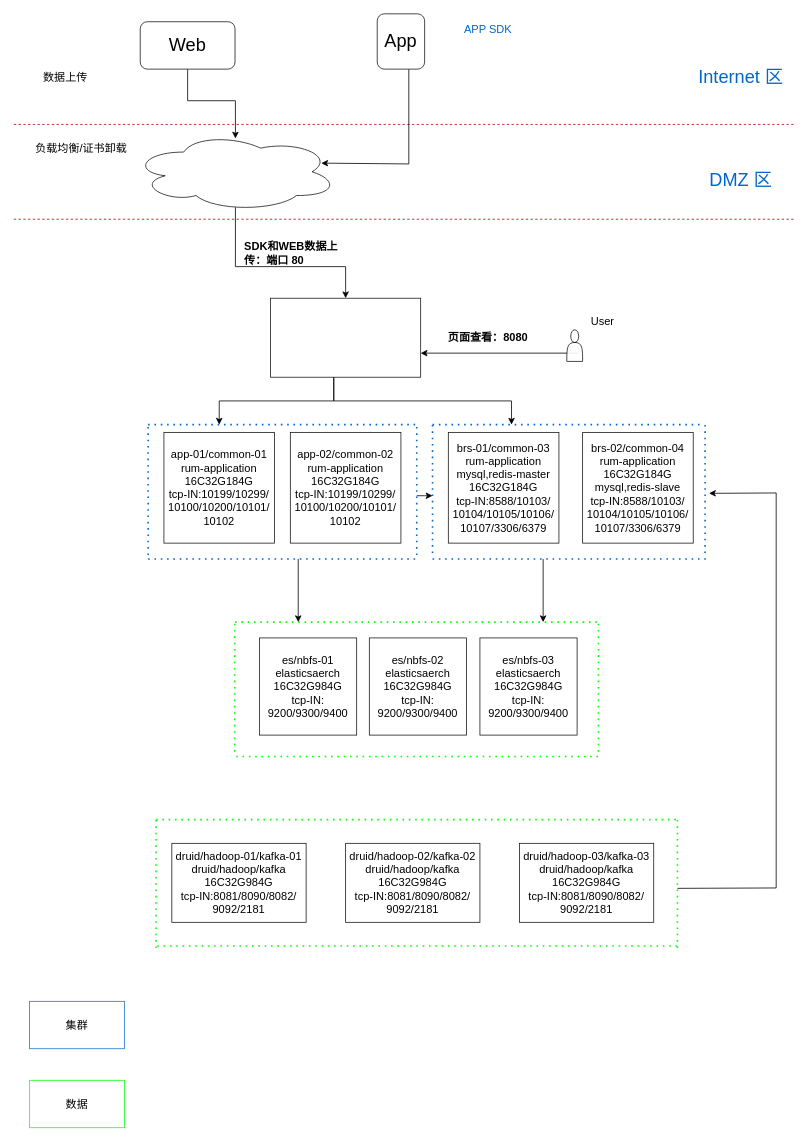
Some shapes in this 811 by 1142 pixel diagram are drawn without their labels. The shapes that lost their labels are listed below. From the top down, each one's centre as x and y in pixels, then its label:
the point at 235,171: LB
the point at 345,337: nginx 2C4G84G tcp-IN：80，8080
